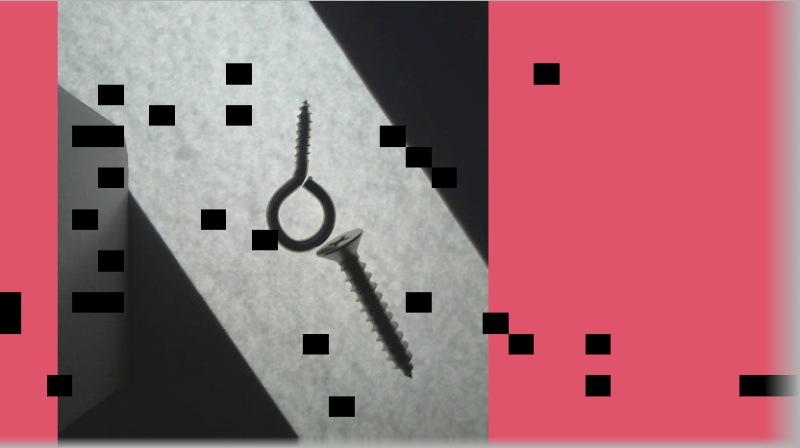O001: (263, 96, 336, 253)
S001: (314, 227, 414, 382)
